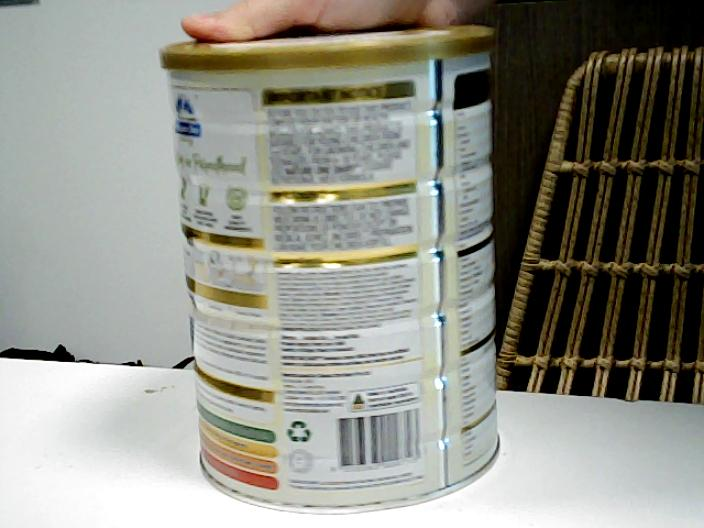Babymilk-powder_500-599g_NonHalal_NonHealthy: (160, 27, 505, 518)
